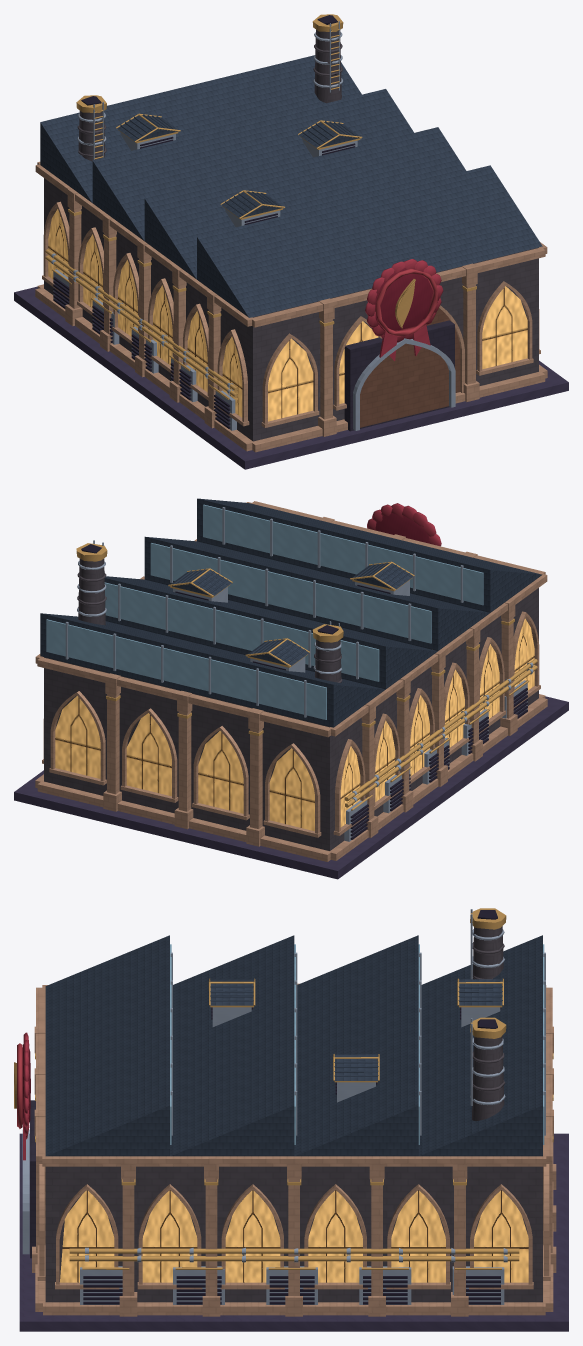
File: sealwright-foundry-far.glb
3 renders of one model, top to bottom at view 1: azimuth 30°, elevation 25°; view 2: azimuth 150°, elevation 25°; view 3: azimuth 270°, elevation 25°, orthographic. The views are drawn at different scales.
Size of the model in its own units: 17 by 12.02 by 21.21.
14 materials, 14 textured.
